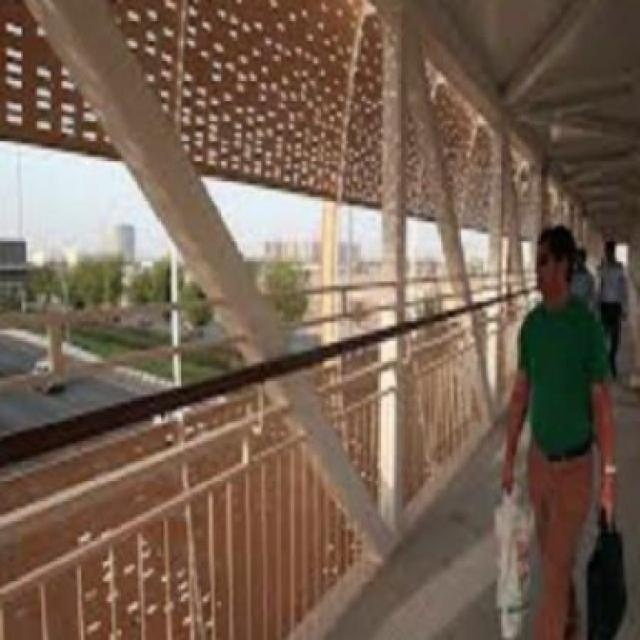obstacle: (491, 218, 638, 638), (592, 232, 631, 382)
